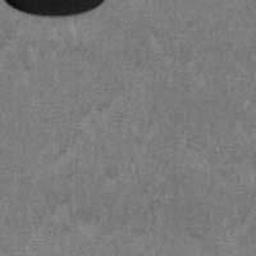Punching: (4, 0, 106, 18)
